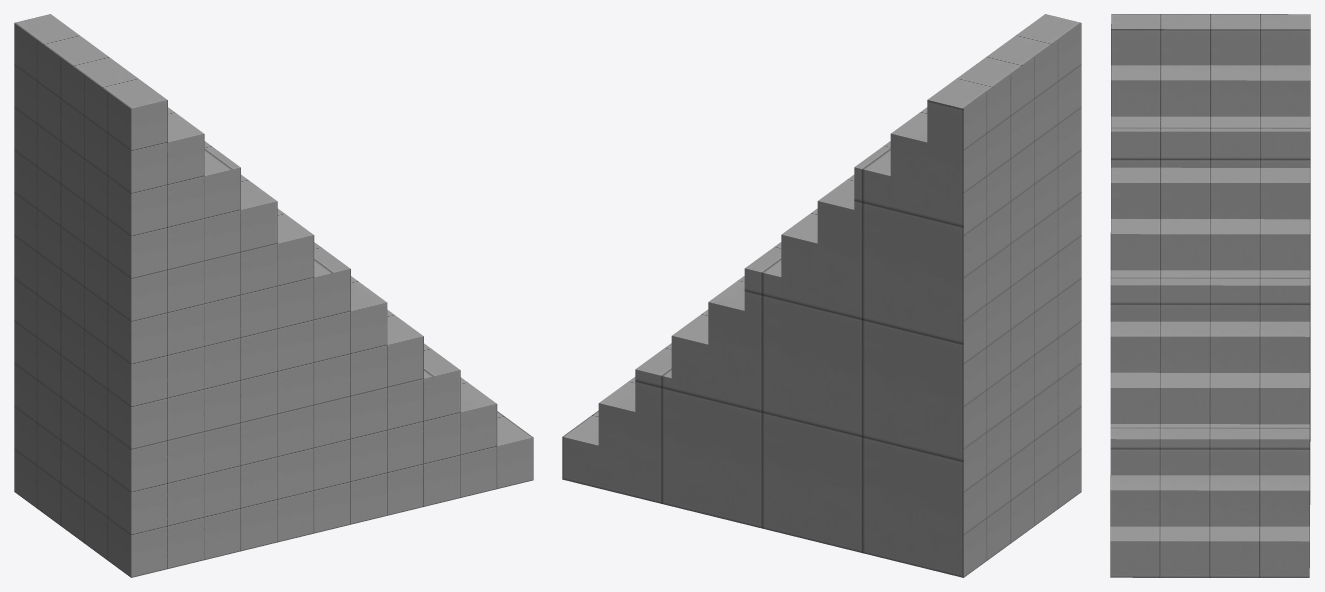
Rendered from Stairs.glb.
3 renders of one model, left to right at view 1: azimuth 30°, elevation 25°; view 2: azimuth 150°, elevation 25°; view 3: azimuth 270°, elevation 25°, orthographic. The views are drawn at different scales.
Visible parts, largest first — view 1: StraightStair001; view 2: StraightStair001; view 3: StraightStair001.
Boxes of the visible parts, x1,y1,x2,y2 form: StraightStair001: (14,14,533,577); StraightStair001: (562,14,1081,577); StraightStair001: (1110,14,1310,577).
Bounding box in the file's own units: 6.62 × 7.37 × 3.37.
1 material, 1 textured.
